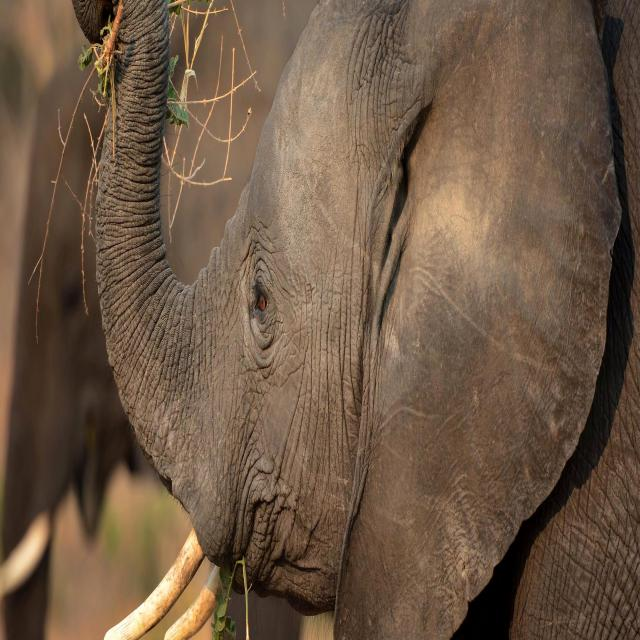elephant: (96, 0, 640, 639)
